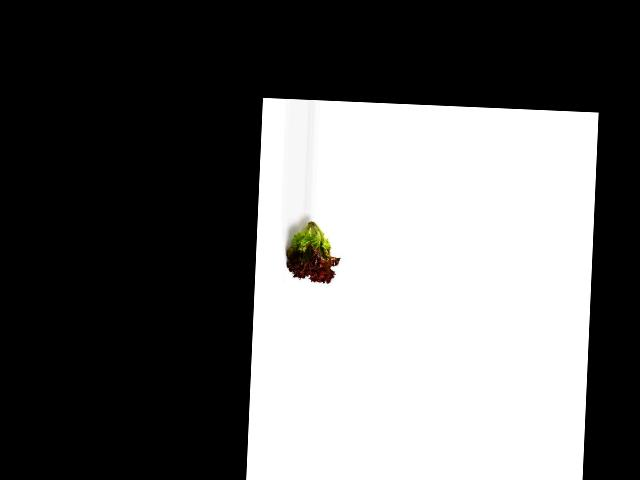lettuce: (283, 212, 340, 286)
